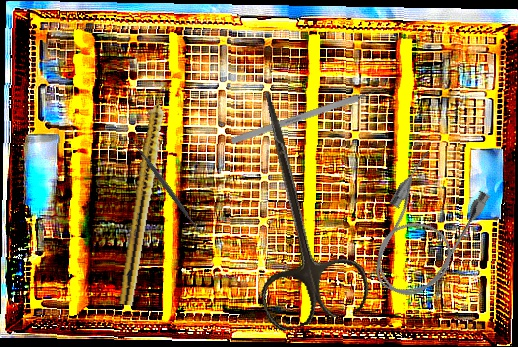Cannula: (352, 146, 496, 311)
Handpiece: (118, 81, 173, 307)
Hook Surgical: (230, 84, 388, 145)
Iris Scissors: (210, 79, 375, 335)
Spatula Surgical: (125, 133, 210, 242)
